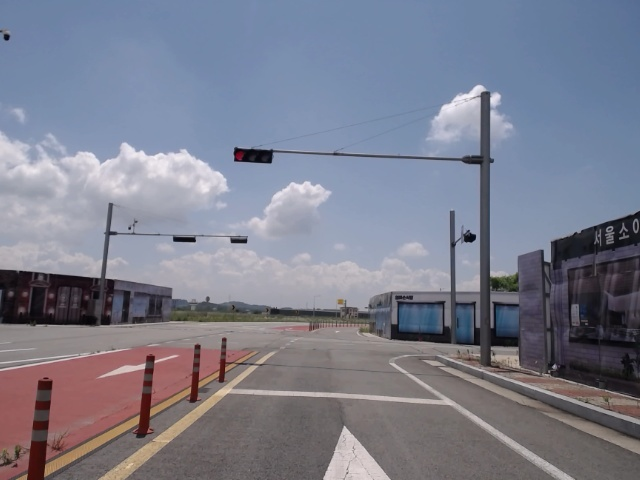red_3: (233, 149, 273, 164)
